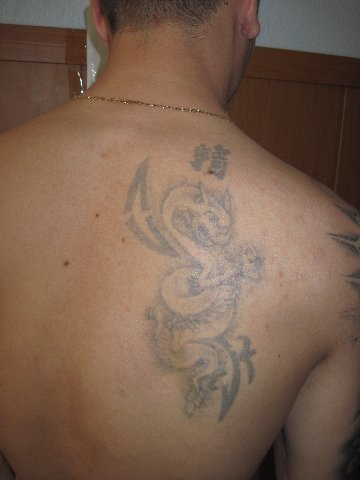tatu6_drakon: (107, 126, 286, 426)
